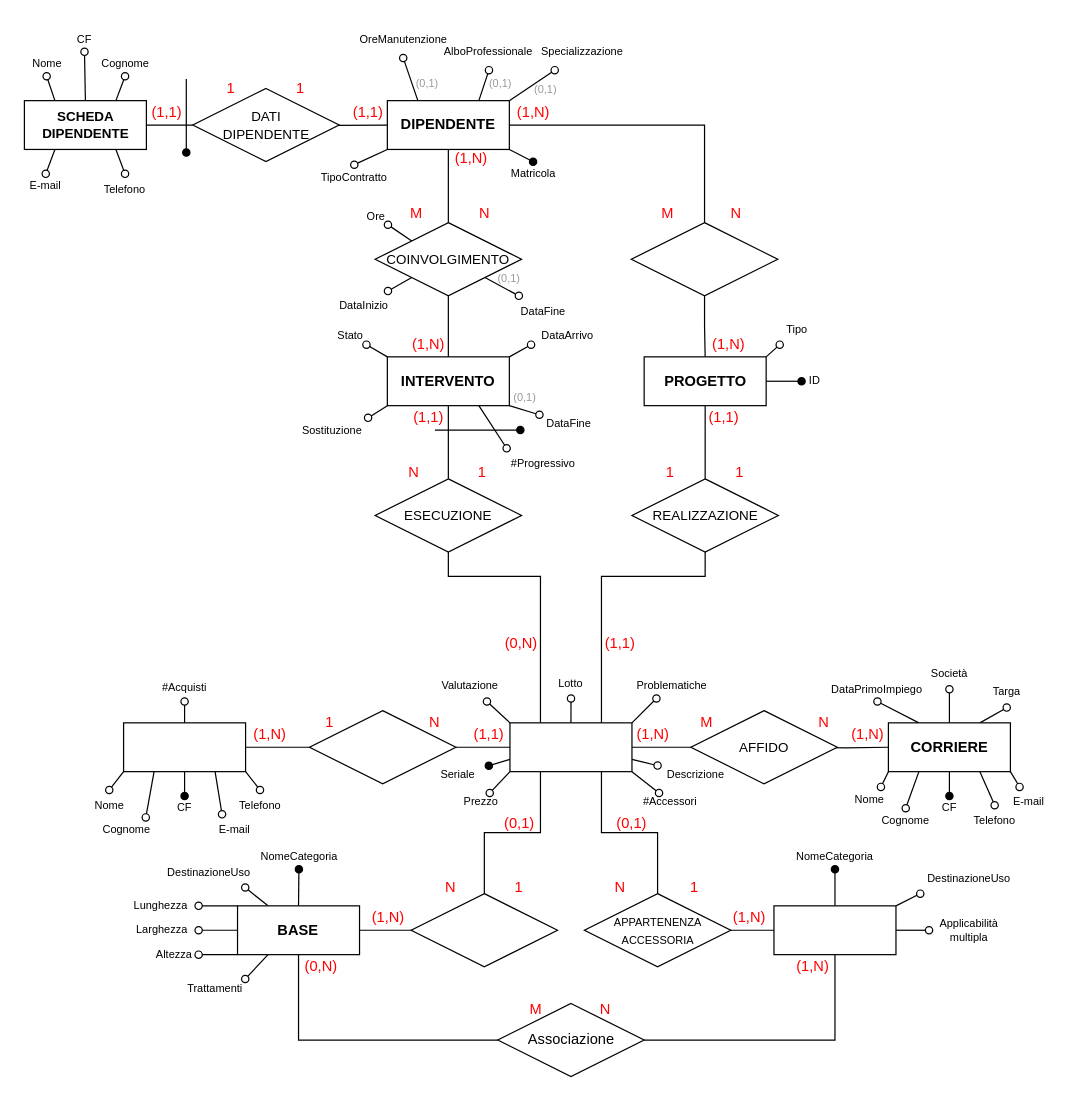
Some shapes in this 1068 by 1098 pixel diagram are drawn without their labels. The shapes that lost their labels are listed below. From the top down, each one's box as (x1, y1, x2, y2) in pixels, then its label:
(630, 221, 778, 296): PARTECIPAZIONE
(122, 722, 246, 772): CLIENTE
(308, 709, 456, 784): ACQUISTO
(509, 722, 632, 772): MACCHINARIO
(410, 892, 558, 967): APPARTENENZA BASE
(773, 905, 896, 955): ACCESSORIA
